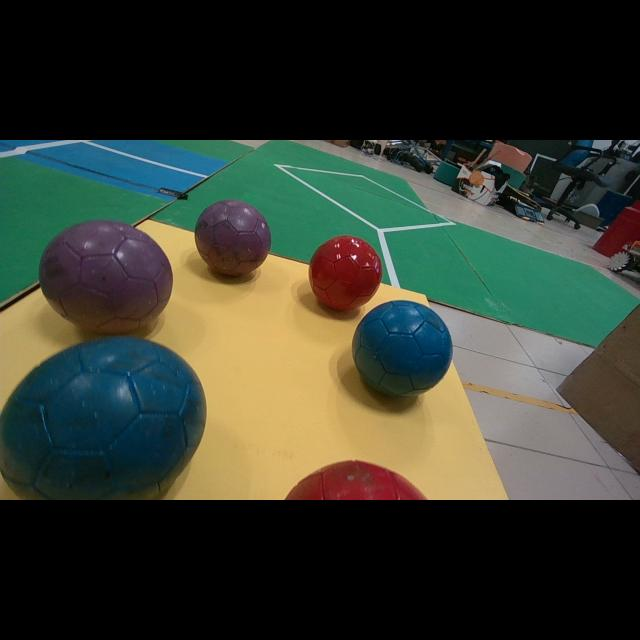B: (0, 336, 205, 499), (352, 300, 452, 396)
P: (39, 220, 172, 333), (195, 200, 271, 275)
R: (286, 460, 426, 500), (309, 235, 382, 310)
